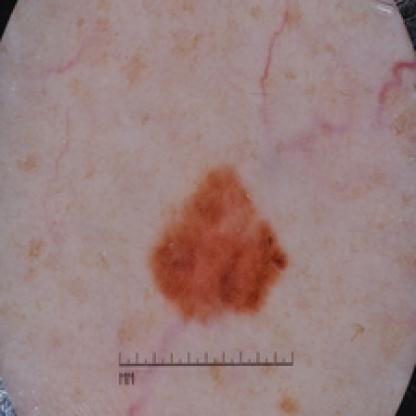malignant: (139, 166, 310, 332)
